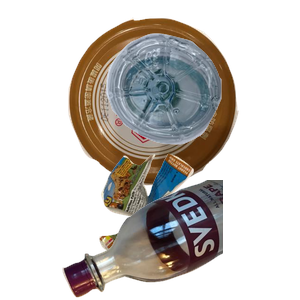glass: (60, 180, 300, 300)
metal: (66, 15, 297, 193)
plastic: (104, 31, 300, 168)
trash: (97, 151, 283, 300)
